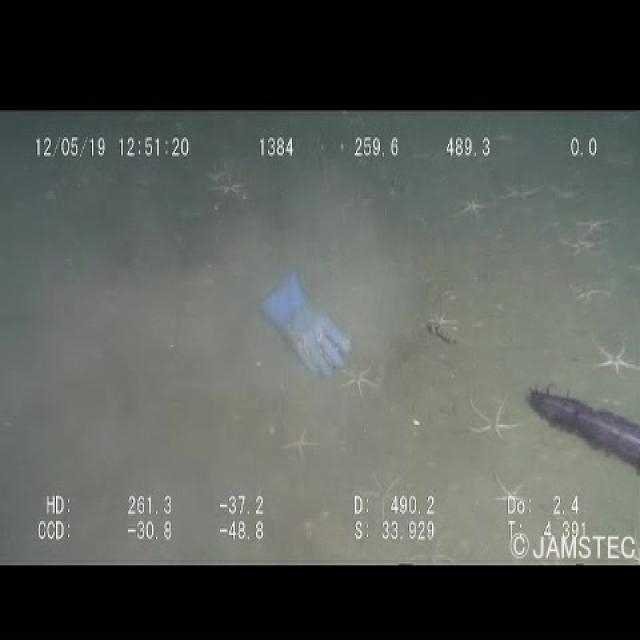plastic: (254, 265, 358, 395)
